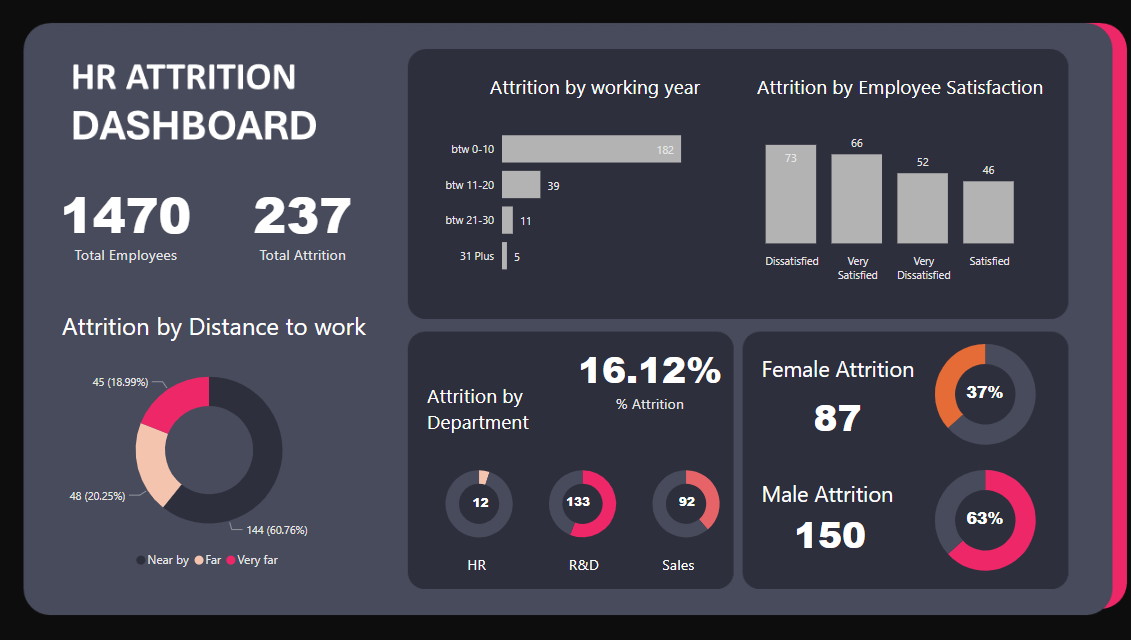

The page's visual inventory and layout, read from the dashboard file:
{"tool":"powerbi","page":{"name":"Page 1","canvas":[1280,720],"ordinal":0},"visuals":[{"type":"card","fields":{"Values":["All Measures.Total Employees"]},"box":[55,173.3,186.7,150],"z":0},{"type":"donutChart","fields":{"Category":["HR-Employee-Attrition.Distance Status"],"Y":["All Measures.Total Attrition"]},"box":[43.3,390,395,253.3],"z":1000},{"type":"barChart","fields":{"Y":["All Measures.Total Attrition"],"Category":["HR-Employee-Attrition.Working Years Group"]},"box":[493.3,123.3,296.7,200],"z":2000},{"type":"columnChart","fields":{"Category":["HR-Employee-Attrition.Job Satisfaction Status"],"Y":["All Measures.Total Attrition"]},"box":[815,138.3,356.7,185],"z":3000},{"type":"card","fields":{"Values":["All Measures.% Attrition"]},"box":[640,360,181.7,123.3],"z":4000},{"type":"donutChart","fields":{"Y":["All Measures.HR Department","All Measures.Remain Hr"]},"box":[478.3,510,125,103.3],"z":5000},{"type":"donutChart","fields":{"Y":["All Measures.R&D Department","All Measures.Remain R&D"]},"box":[593.3,510,125,103.3],"z":6000},{"type":"donutChart","fields":{"Y":["All Measures.Sales Department","All Measures.Remain Sales"]},"box":[708.3,510,125,103.3],"z":7000},{"type":"donutChart","fields":{"Category":["HR-Employee-Attrition.Gender"],"Y":["All Measures.Total Attrition"]},"box":[1021.7,365,163.3,150],"z":8000},{"type":"donutChart","fields":{"Category":["HR-Employee-Attrition.Gender"],"Y":["All Measures.Total Attrition"]},"box":[1028.3,505,150,150],"z":9000},{"type":"textbox","box":[55,340,383.3,50],"z":10000},{"type":"textbox","box":[525,78.3,290,45],"z":11000},{"type":"textbox","box":[833.3,78.3,351.7,45],"z":12000},{"type":"card","fields":{"Values":["All Measures.HR Department"]},"box":[511.7,545,61.7,35],"z":13000},{"type":"card","fields":{"Values":["All Measures.R&D Department"]},"box":[608.3,528.3,85,66.7],"z":14000},{"type":"card","fields":{"Values":["All Measures.Sales Department"]},"box":[721.7,528.3,100,66.7],"z":15000},{"type":"textbox","box":[493.3,613.3,321.7,41.7],"z":16000},{"type":"textbox","box":[478.3,421.7,163.3,88.3],"z":17000},{"type":"card","fields":{"Values":["All Measures.% Male Attrition"]},"box":[1045,555,115,50],"z":18000},{"type":"card","fields":{"Values":["All Measures.% Female Attrition"]},"box":[1045,415,115,50],"z":19000},{"type":"textbox","box":[850,390,195,50],"z":20000},{"type":"textbox","box":[850,528.3,178.3,51.7],"z":20001},{"type":"card","fields":{"Values":["All Measures.Total Attrition"]},"box":[848.3,403.3,181.7,123.3],"z":20002},{"type":"card","fields":{"Values":["All Measures.Total Attrition"]},"box":[840,533.3,181.7,123.3],"z":20003},{"type":"card","fields":{"Values":["All Measures.Total Attrition"]},"box":[251.7,173.3,186.7,150],"z":20004}]}

Visuals, with their boxes in screenshot pixels (x1, y1, x2, y2), scaled from the page's 1280x720 canvas onto the 1131x640 screenshot:
card - All Measures.Total Employees: (left=49, top=154, right=214, bottom=287)
donutChart - HR-Employee-Attrition.Distance Status x All Measures.Total Attrition: (left=38, top=347, right=387, bottom=572)
barChart - All Measures.Total Attrition x HR-Employee-Attrition.Working Years Group: (left=436, top=110, right=698, bottom=287)
columnChart - HR-Employee-Attrition.Job Satisfaction Status x All Measures.Total Attrition: (left=720, top=123, right=1035, bottom=287)
card - All Measures.% Attrition: (left=566, top=320, right=726, bottom=430)
donutChart - All Measures.HR Department x All Measures.Remain Hr: (left=423, top=453, right=533, bottom=545)
donutChart - All Measures.R&D Department x All Measures.Remain R&D: (left=524, top=453, right=635, bottom=545)
donutChart - All Measures.Sales Department x All Measures.Remain Sales: (left=626, top=453, right=736, bottom=545)
donutChart - HR-Employee-Attrition.Gender x All Measures.Total Attrition: (left=903, top=324, right=1047, bottom=458)
donutChart - HR-Employee-Attrition.Gender x All Measures.Total Attrition: (left=909, top=449, right=1041, bottom=582)
textbox: (left=49, top=302, right=387, bottom=347)
textbox: (left=464, top=70, right=720, bottom=110)
textbox: (left=736, top=70, right=1047, bottom=110)
card - All Measures.HR Department: (left=452, top=484, right=507, bottom=516)
card - All Measures.R&D Department: (left=537, top=470, right=613, bottom=529)
card - All Measures.Sales Department: (left=638, top=470, right=726, bottom=529)
textbox: (left=436, top=545, right=720, bottom=582)
textbox: (left=423, top=375, right=567, bottom=453)
card - All Measures.% Male Attrition: (left=923, top=493, right=1025, bottom=538)
card - All Measures.% Female Attrition: (left=923, top=369, right=1025, bottom=413)
textbox: (left=751, top=347, right=923, bottom=391)
textbox: (left=751, top=470, right=909, bottom=516)
card - All Measures.Total Attrition: (left=750, top=358, right=910, bottom=468)
card - All Measures.Total Attrition: (left=742, top=474, right=903, bottom=584)
card - All Measures.Total Attrition: (left=222, top=154, right=387, bottom=287)
